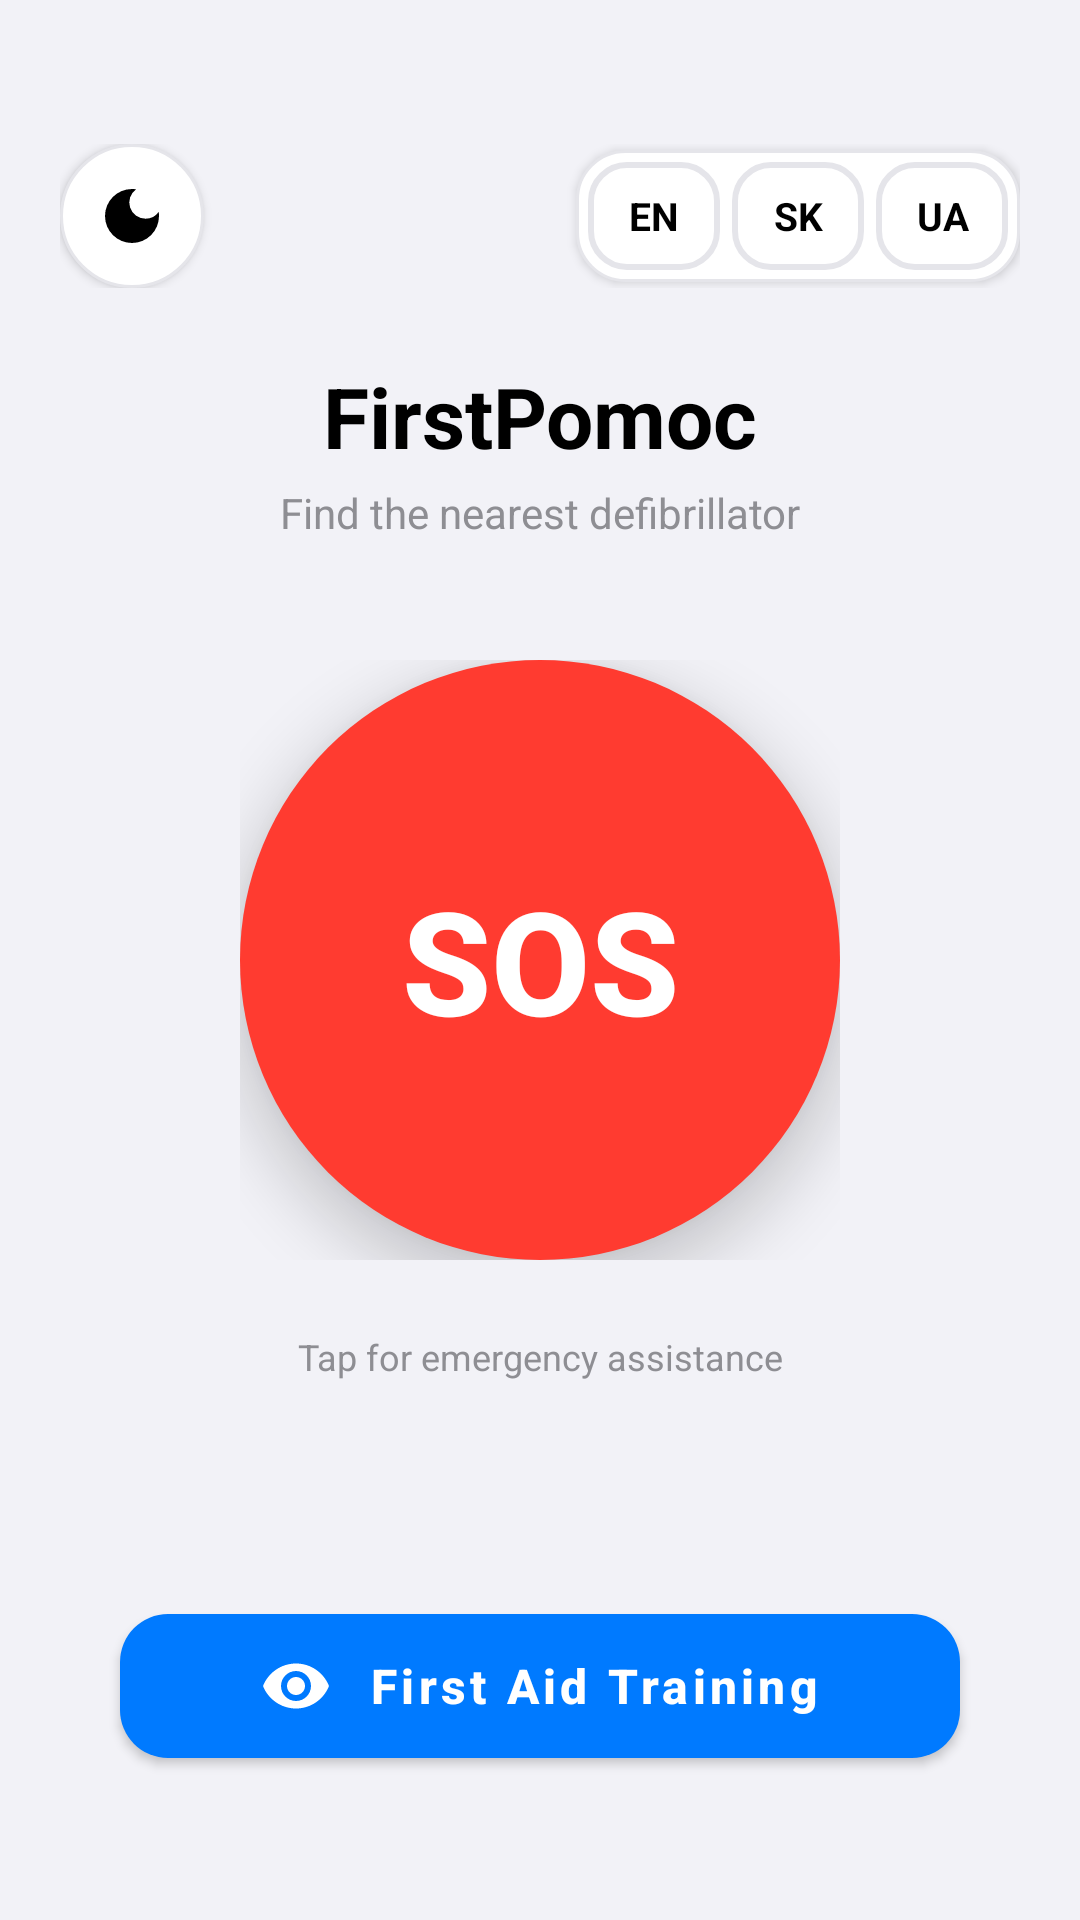

Where to tap for icons on this 1080x1920 app screen, as (x=x, y=y):
Toggle theme: (x=132, y=216)
